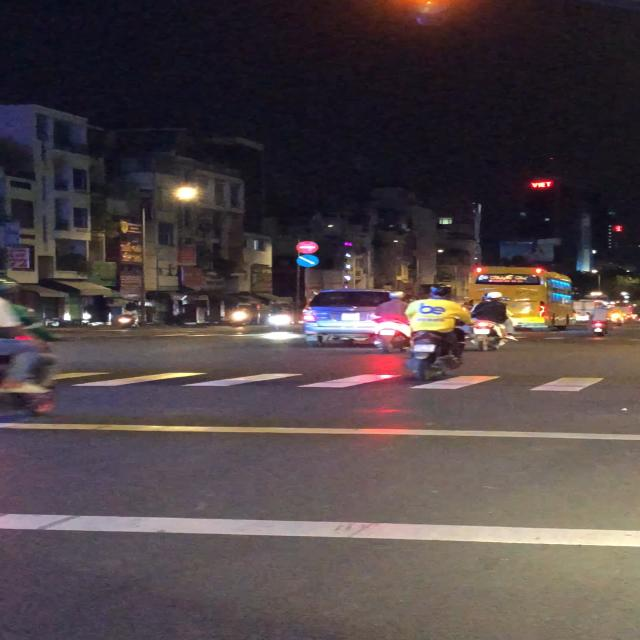Bien bao cam di nguoc chieu: (295, 240, 319, 254)
Bien bao huong phai di vong chuong ngai vat: (296, 254, 320, 269)
